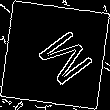M_SW: (21, 21, 89, 89)
